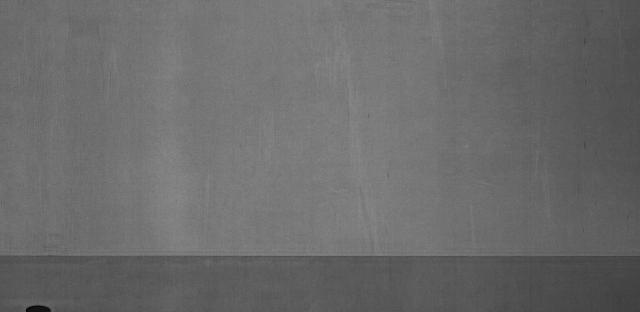welding_line: (1, 244, 640, 272)
